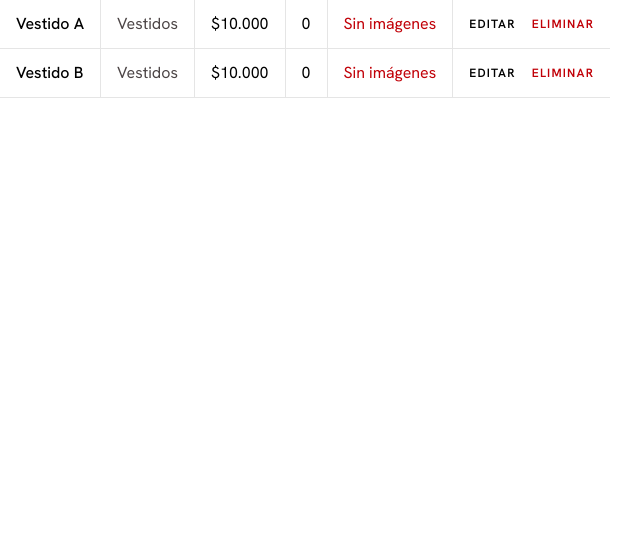
Test case: ProductTableBody › closes the previously open row's edit form when a different row's Editar is clicked
The width and height of the screenshot is (627, 548).
Click the button "Editar" in the row of "Vestido A": (493, 24) top-left (469, 16), bottom-right (516, 32)
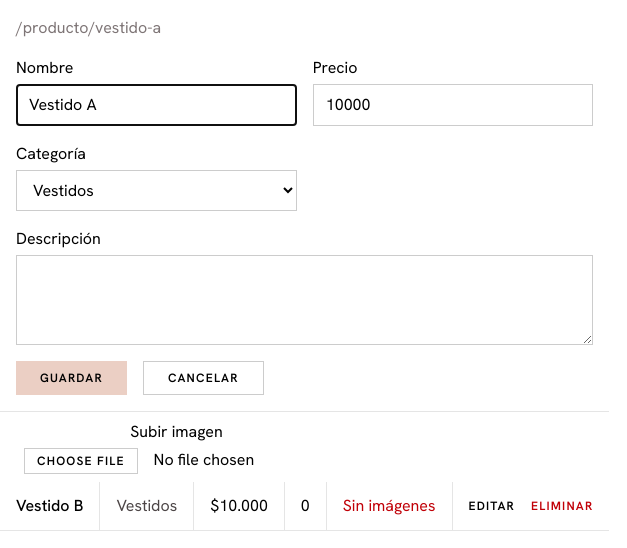
Now the number of fields labelled "Nombre" is 1, box top-left (16, 84), bottom-right (297, 126)
Now the field labelled "Nombre" holds "Vestido A", box top-left (16, 84), bottom-right (297, 126)
Click the button "Editar": (492, 506) top-left (468, 498), bottom-right (515, 514)
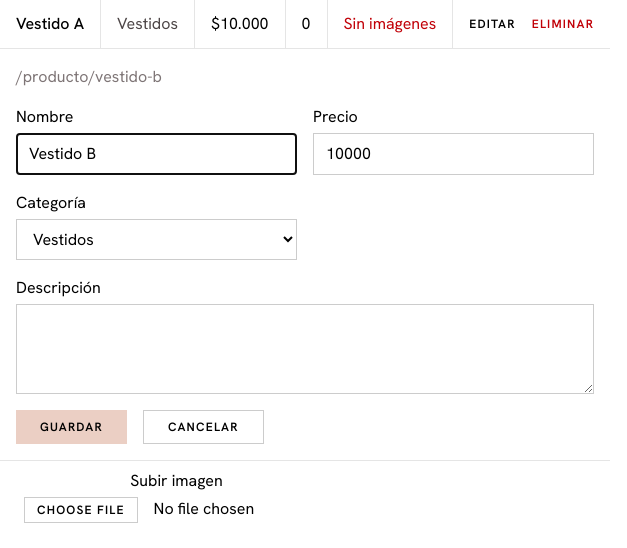
Now the number of fields labelled "Nombre" is 1, box top-left (16, 133), bottom-right (297, 175)
Now the field labelled "Nombre" holds "Vestido B", box top-left (16, 133), bottom-right (297, 175)
Now the text "Vestido A" is shown, box top-left (0, 0), bottom-right (101, 48)
